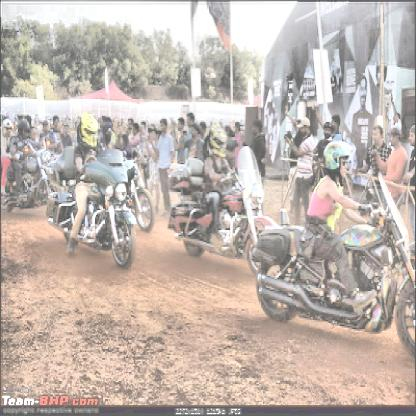wear: (78, 110, 100, 151), (327, 138, 348, 178), (207, 120, 227, 159)
